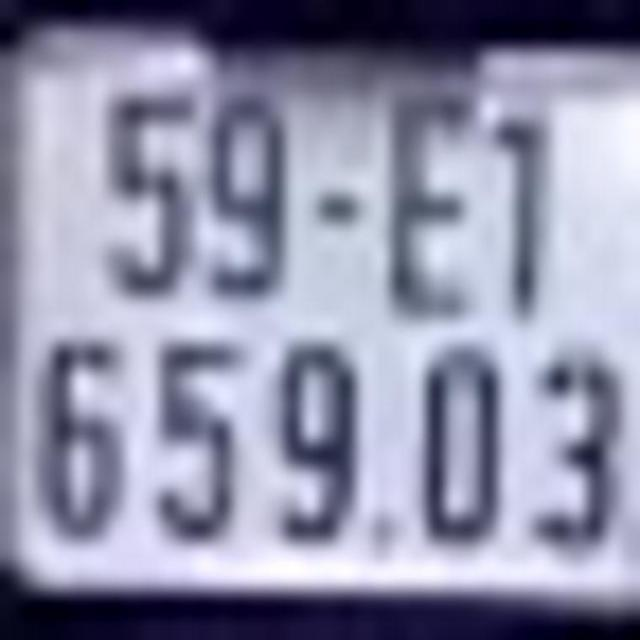0: (426, 334, 503, 544)
1: (492, 103, 550, 320)
3: (542, 345, 616, 554)
5: (97, 88, 192, 294), (163, 328, 240, 538)
6: (39, 327, 128, 548)
9: (270, 327, 357, 547), (204, 82, 280, 288)
E: (381, 80, 474, 323)
